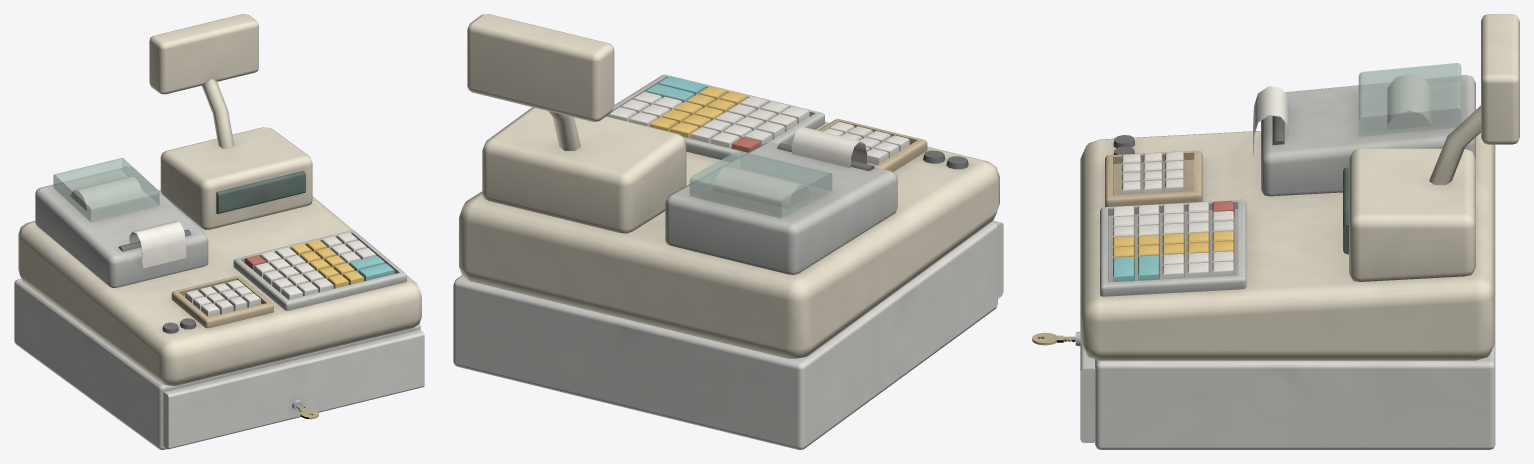
Rendered from Shop_CashRegister.fbx.
3 views of the same model, side by side, from view 1: azimuth 30°, elevation 25°; view 2: azimuth 150°, elevation 25°; view 3: azimuth 270°, elevation 25° (orthographic). The views are drawn at different scales.
Parts seen in each view (by area): view 1: Shop_CashRegister; view 2: Shop_CashRegister; view 3: Shop_CashRegister.
Boxes of the visible parts, x1=… form: Shop_CashRegister: x1=14, y1=14, x2=424, y2=449; Shop_CashRegister: x1=453, y1=14, x2=1003, y2=449; Shop_CashRegister: x1=1032, y1=14, x2=1519, y2=449.
Size of the model in its own units: 0.42 by 0.41 by 0.4995.
